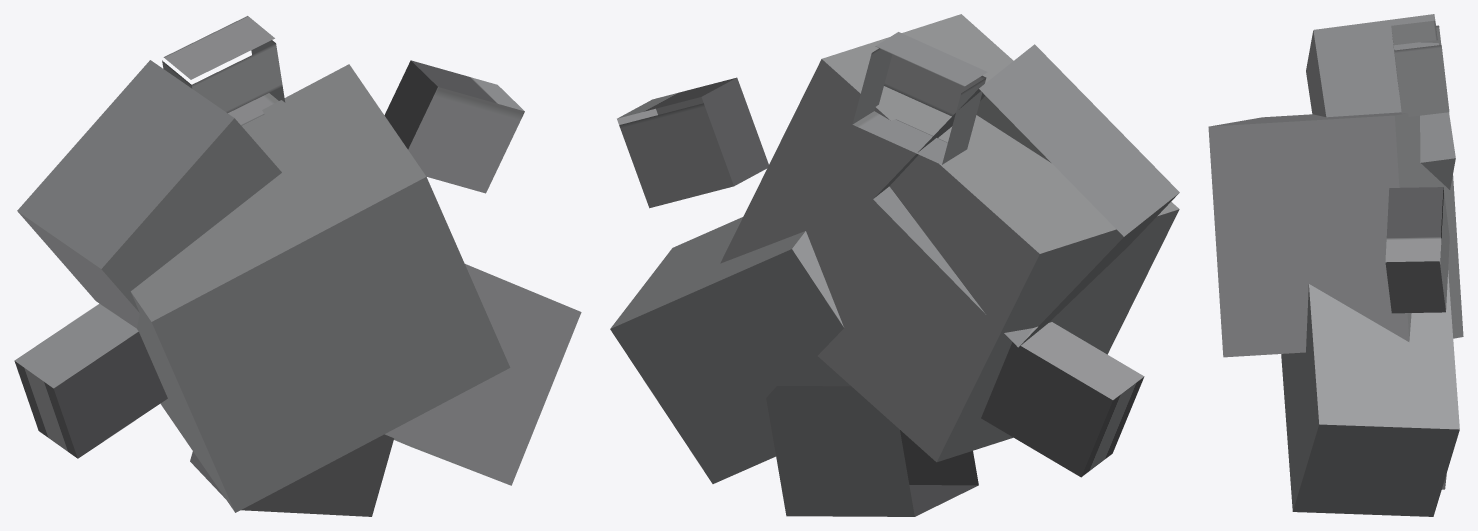
3 views of the same model, side by side, from view 1: azimuth 30°, elevation 25°; view 2: azimuth 150°, elevation 25°; view 3: azimuth 270°, elevation 25° (orthographic). The views are drawn at different scales.
Size of the model in its own units: 0.316 by 0.2901 by 0.1593.
